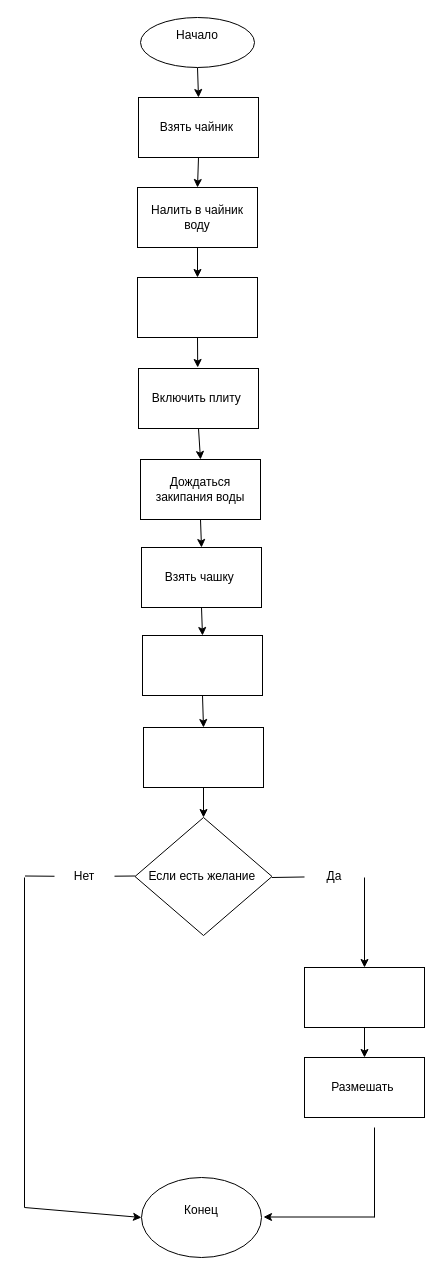
Image size: 442x1275. Some labels were removed from this diagram. Here are the shapes that lost their labels. From the top down, the centre of each, then its label:
At [197,307]: "Поставить чайник на плиту".
At [202,665]: "Положить в чашку чайный пакетик".
At [203,757]: "Налить кипяток в чашку".
At [364,997]: "Добавить сахар".
